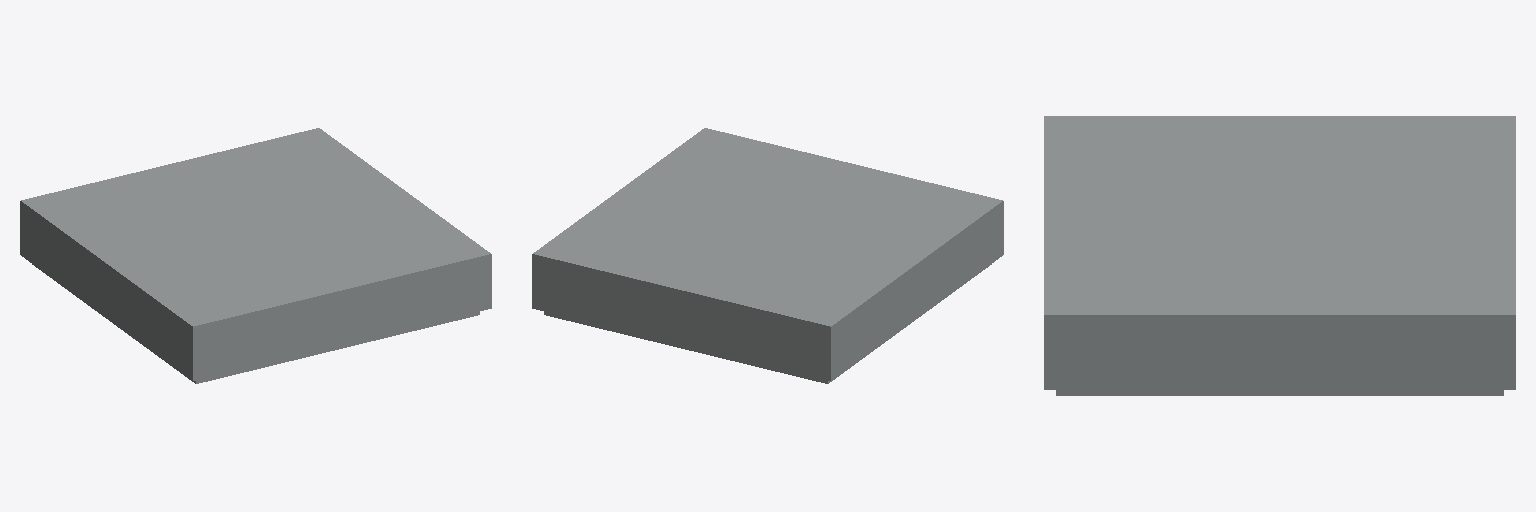
The robot description file, URDF, robot "3068__light_bluish_gray":
<?xml version="1.0"?>
<robot name="3068__light_bluish_gray">
  <link name="3068__light_bluish_gray">
    <inertial>
      <origin xyz="-0.000000 -0.000000 -0.001591" rpy="0 0 0"/>
      <mass value="0.000855"/>
      <inertia ixx="1.885441186e-08" ixy="7.659931877e-43" ixz="5.050635341e-26" iyy="1.885441186e-08" iyz="2.878727356e-26" izz="3.626377789e-08"/>
    </inertial>
    <visual>
      <geometry>
        <mesh filename="../meshes/visual/3068.obj" scale="1 1 1"/>
      </geometry>
      <material name="3068__light_bluish_gray_color">
        <color rgba="0.630 0.650 0.650 1.000"/>
      </material>
    </visual>
    <collision>
      <geometry>
        <mesh filename="../meshes/collision/3068_hull.obj" scale="1 1 1"/>
      </geometry>
    </collision>
  </link>
</robot>

--- What the picture shows (computed from the rendered views, not written in the file) ---
The picture shows the robot from 3 angles, left to right: view 1: azimuth 30°, elevation 25°; view 2: azimuth 150°, elevation 25°; view 3: azimuth 270°, elevation 25°; orthographic projection.
Robot: 3068__light_bluish_gray — 1 links, 0 joints (none); root link 3068__light_bluish_gray; default pose: every joint at zero.
Links seen in each view (by area): view 1: 3068__light_bluish_gray; view 2: 3068__light_bluish_gray; view 3: 3068__light_bluish_gray.
Link boxes in pixels (left/top/right/bottom): 3068__light_bluish_gray: left=20, top=128, right=491, bottom=383; 3068__light_bluish_gray: left=532, top=128, right=1003, bottom=383; 3068__light_bluish_gray: left=1044, top=116, right=1515, bottom=395.
Bounding box of the posed robot: 0.016 × 0.016 × 0.0032 m (x, y, z).
1 mesh visuals loaded from 1 distinct referenced files (1 OBJ).
